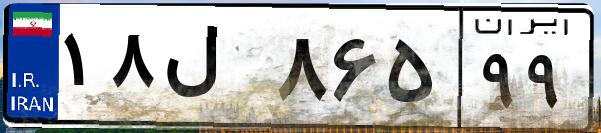1: (57, 26, 110, 100)
5: (385, 28, 445, 110)
6: (330, 28, 385, 110)
8: (270, 28, 330, 110), (110, 28, 158, 98)
9: (475, 38, 525, 113), (525, 38, 570, 115)
ل: (158, 20, 270, 120)
